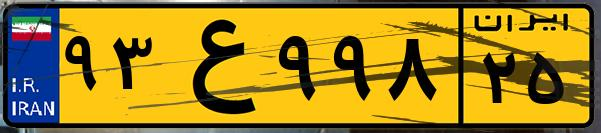2: (475, 38, 525, 113)
3: (110, 28, 158, 98)
5: (525, 38, 570, 115)
8: (385, 28, 445, 110)
9: (270, 28, 330, 110), (330, 28, 385, 110), (57, 26, 110, 100)
ع: (158, 12, 270, 120)
